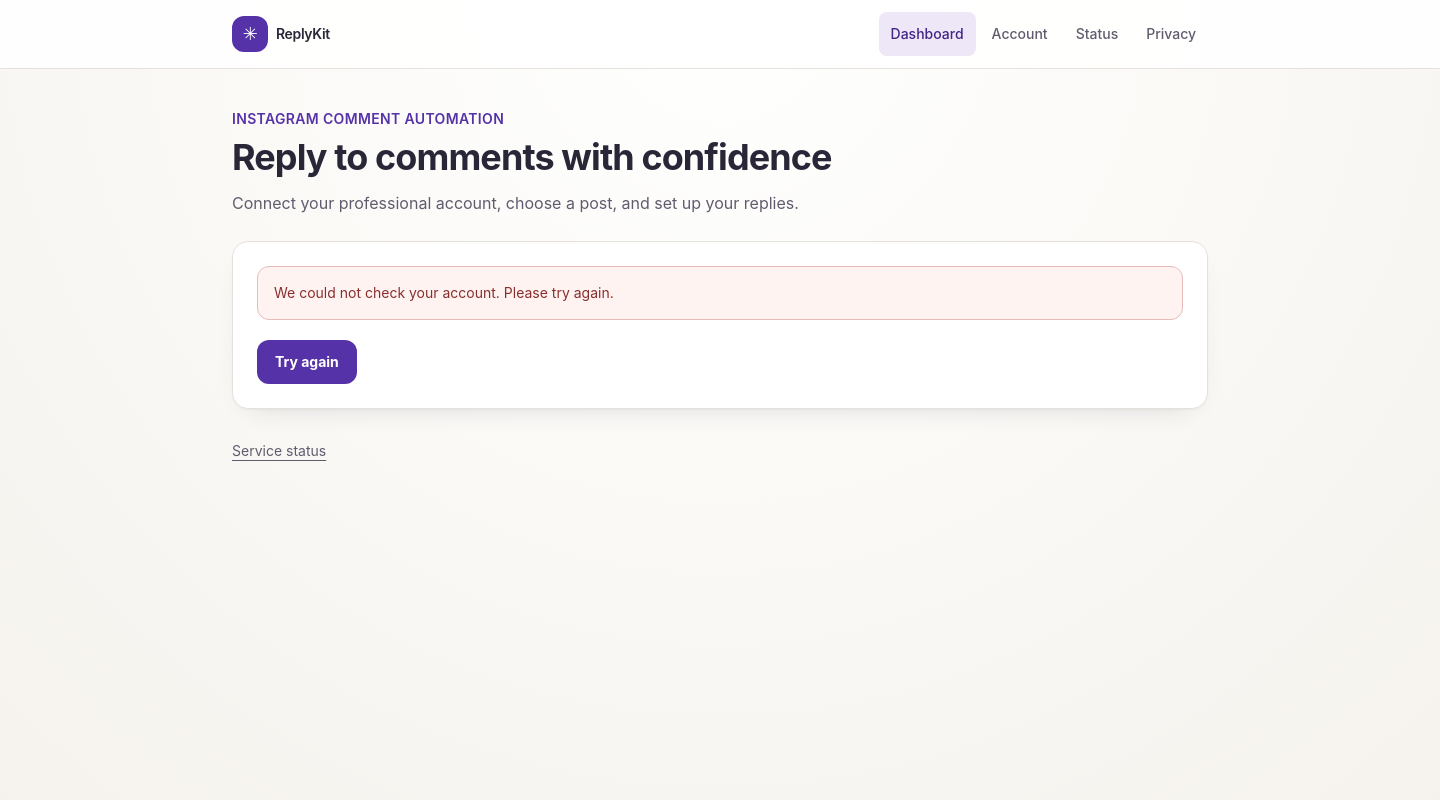
Test: account and connect screens › shows recoverable account lookup errors and retries
Expected: the message shows "could not check your account", [274,284,614,301]
Click the button "Try again" at (307, 362), box [257,340,357,384]
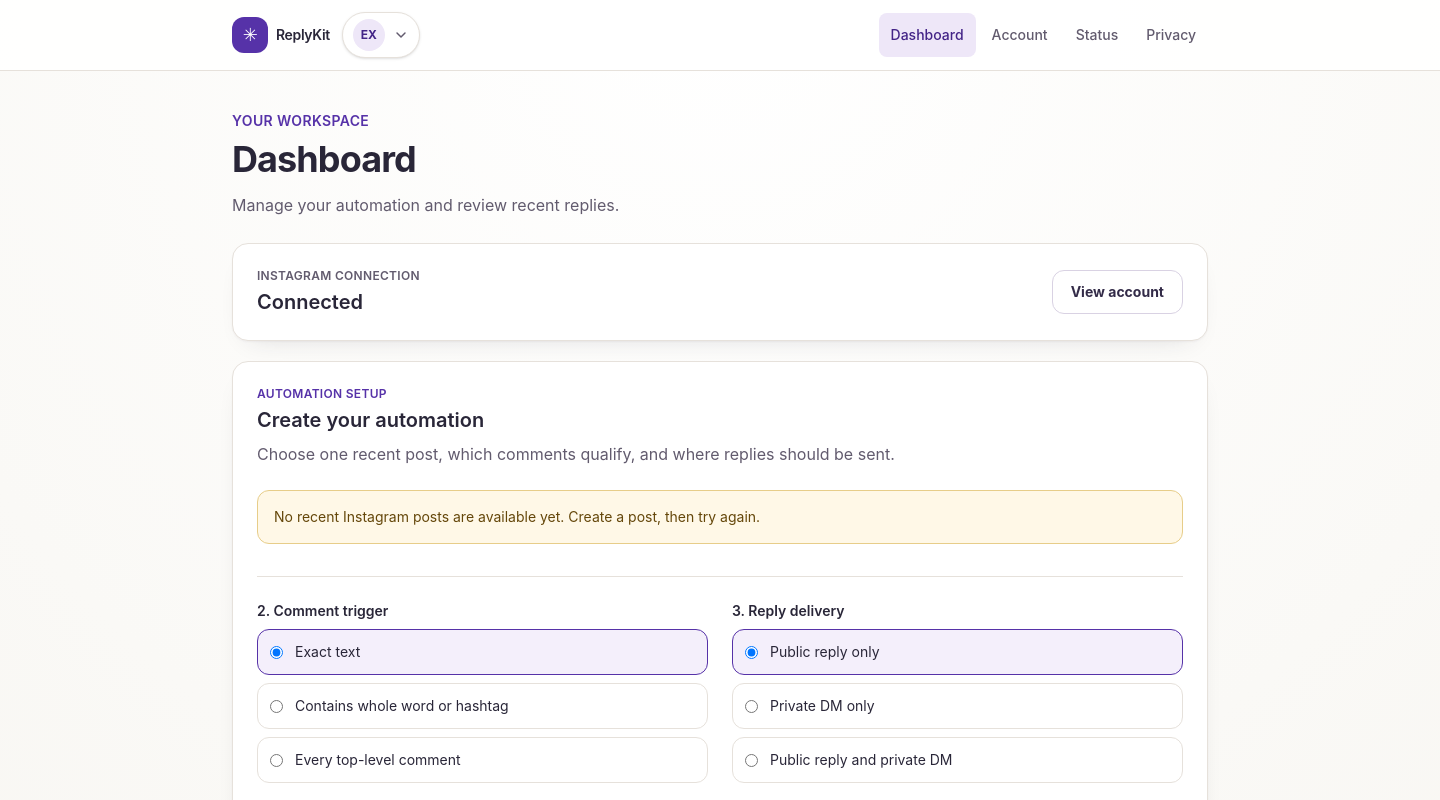
Now the heading named "Account menu for @example" is shown, box [342,12,420,58]
